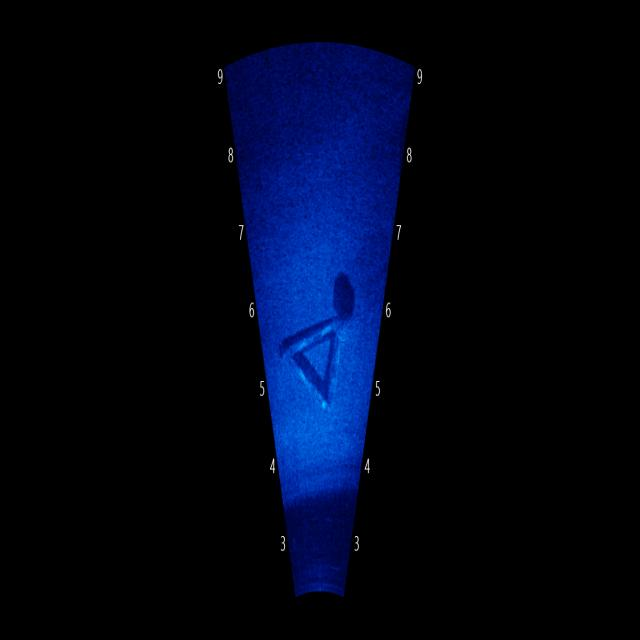triangle: (280, 257, 358, 424)
